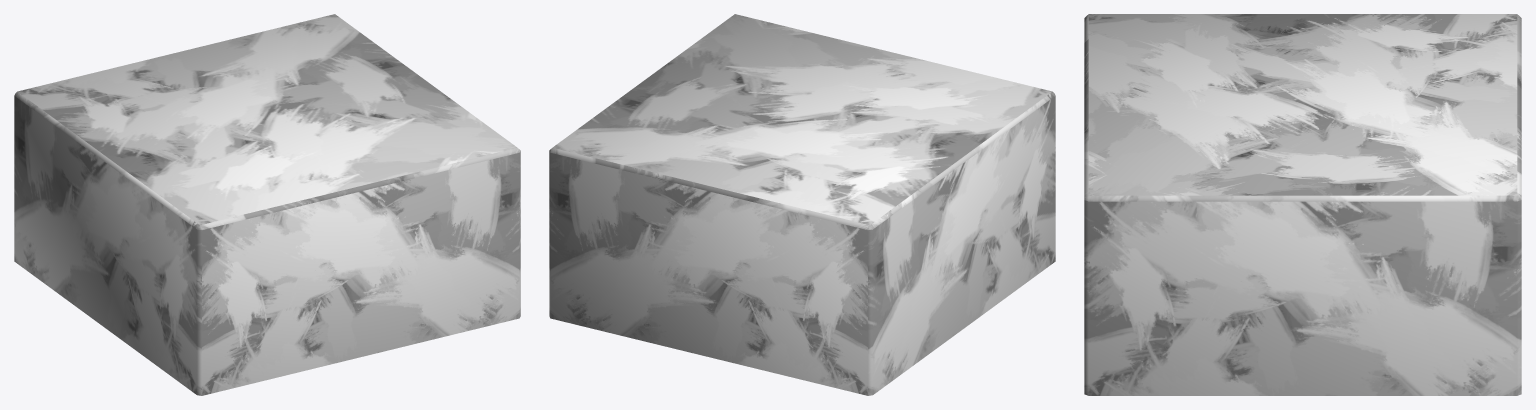
The model's file is Village_Stone_1m_Block.fbx.
3 views of the same model, side by side, from view 1: azimuth 30°, elevation 25°; view 2: azimuth 150°, elevation 25°; view 3: azimuth 270°, elevation 25° (orthographic). The views are drawn at different scales.
Parts seen in each view (by area): view 1: Village_Wall_2m_A.068; view 2: Village_Wall_2m_A.068; view 3: Village_Wall_2m_A.068.
Part boxes in pixels (<box>): Village_Wall_2m_A.068: <box>14,14,520,395</box>; Village_Wall_2m_A.068: <box>549,14,1055,395</box>; Village_Wall_2m_A.068: <box>1084,14,1521,395</box>.
Size of the model in its own units: 200 by 100 by 200.
